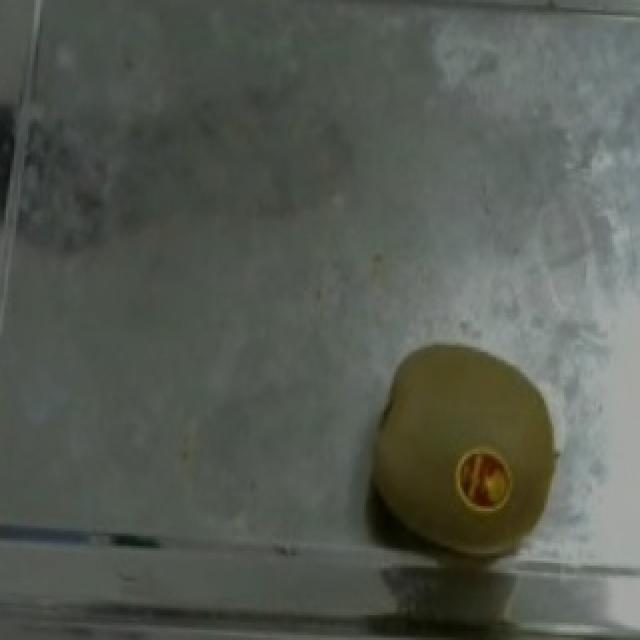Fruit: (354, 335, 560, 551)
